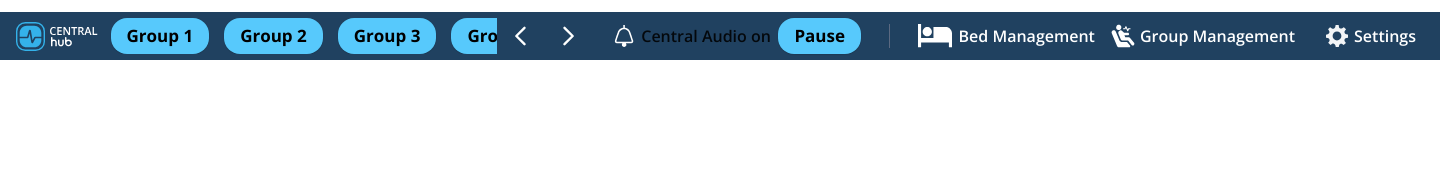
Test: LowerTopbar › toggles audio
Click the button "Pause": [820, 36] box [778,18,861,54]
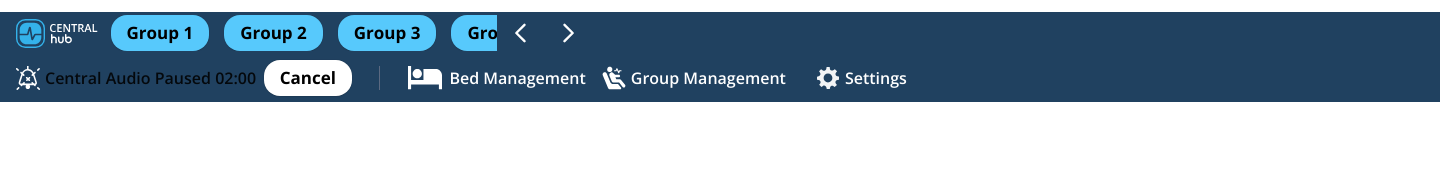
Result: the text "Central Audio Paused 02:00" is shown at [45,66,256,90]
Result: the button "Cancel" is shown
Click the button "Cancel": [308, 78] box [264,60,352,96]
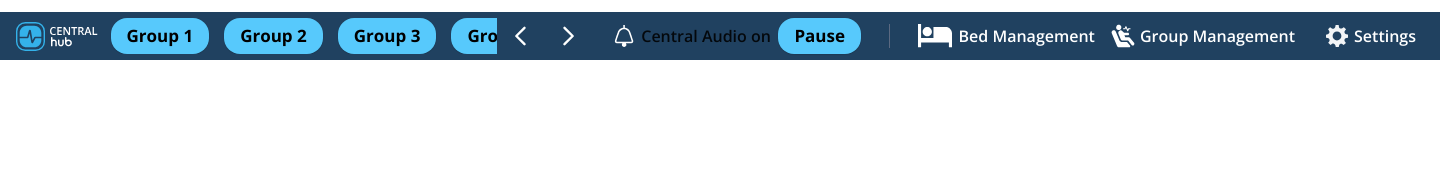
Result: the button "Pause" is shown at [778,18,861,54]
